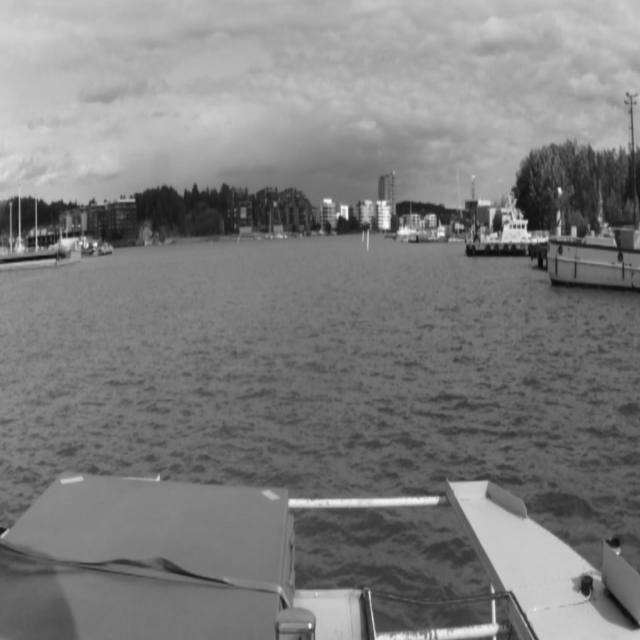buoy: (361, 226, 365, 246)
ship: (550, 218, 638, 290), (466, 206, 550, 255), (416, 226, 448, 243)
